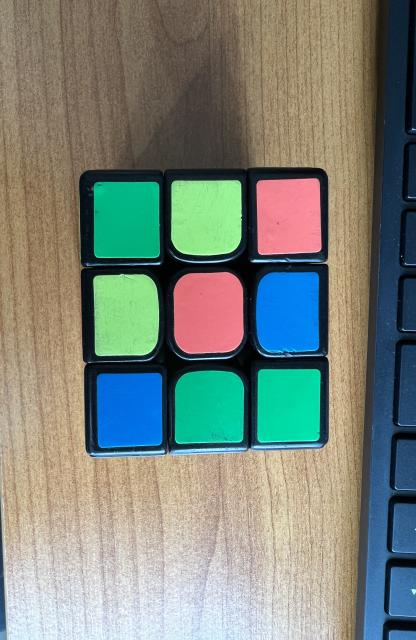Blue: (256, 272, 320, 352), (96, 372, 162, 448)
Green: (93, 181, 159, 258), (176, 370, 244, 444), (258, 369, 321, 442)
Orange: (173, 272, 244, 354), (257, 179, 322, 255)
Yellow: (93, 274, 159, 356), (171, 180, 242, 255)
